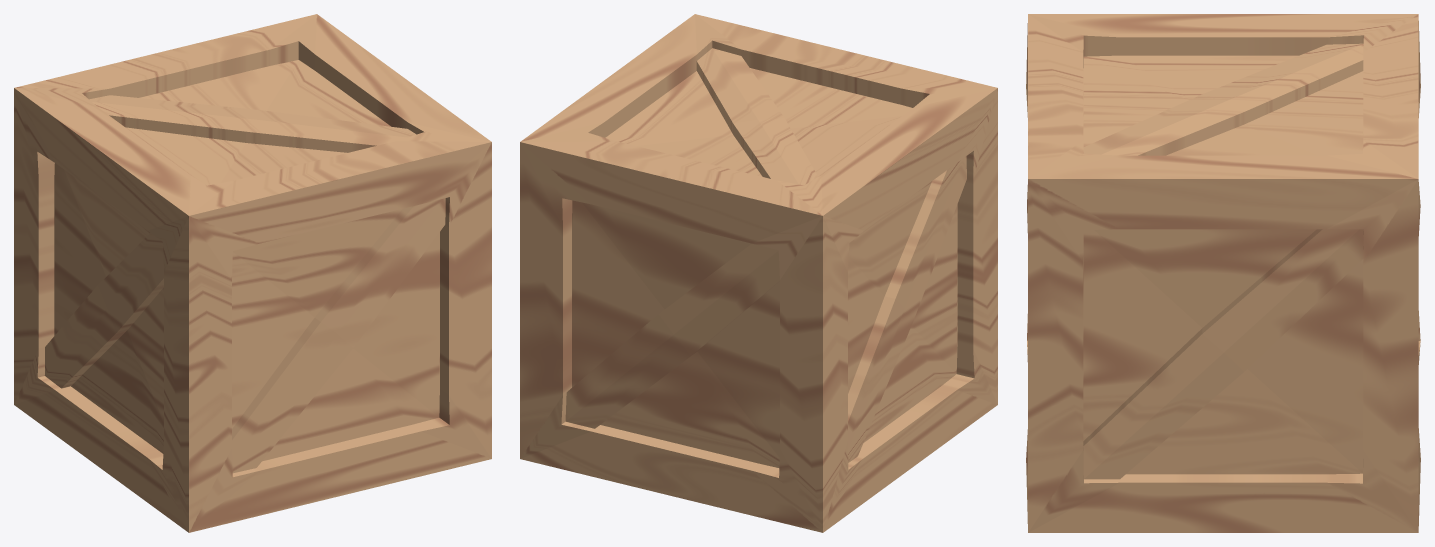
Rendered from BantChest.fbx.
3 views of the same model, side by side, from view 1: azimuth 30°, elevation 25°; view 2: azimuth 150°, elevation 25°; view 3: azimuth 270°, elevation 25° (orthographic). The views are drawn at different scales.
Parts seen in each view (by area): view 1: Cube; view 2: Cube; view 3: Cube.
Part boxes in pixels (<box>): Cube: <box>14,14,491,532</box>; Cube: <box>520,14,997,532</box>; Cube: <box>1026,14,1420,532</box>.
Size of the model in its own units: 202 by 202 by 202.
1 material, 1 textured.
